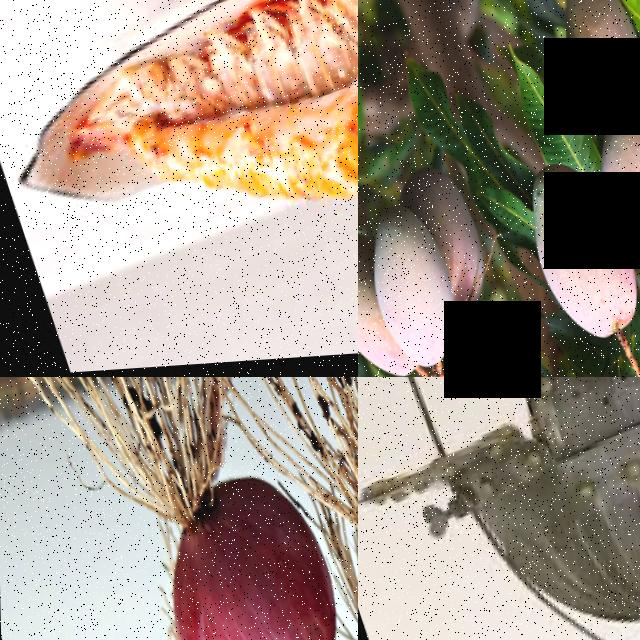lobster tails: (127, 32, 358, 270)
mango: (508, 150, 640, 357), (358, 199, 471, 377), (410, 161, 496, 311), (537, 0, 640, 124), (575, 94, 640, 286), (358, 221, 402, 377)
onion: (131, 457, 358, 640)
